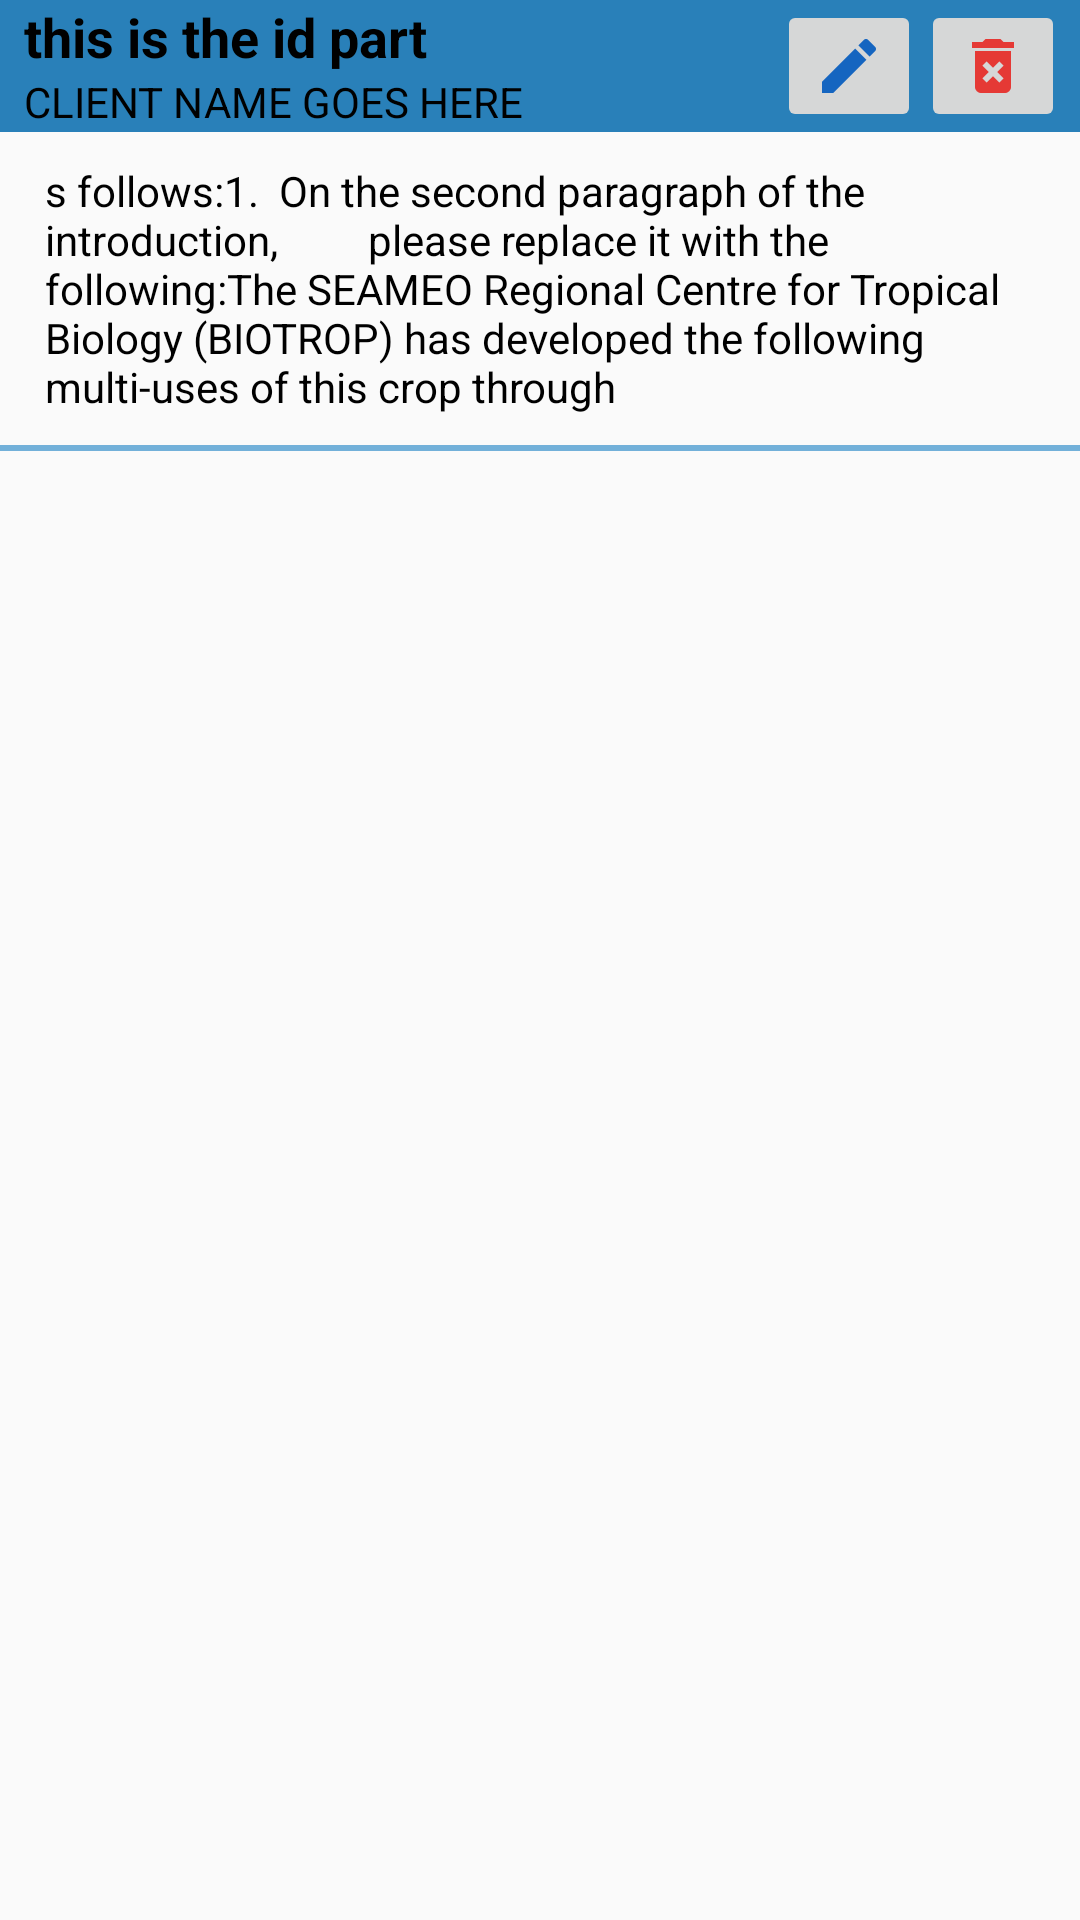

Screen size 1080 × 1920. Icon name, then its center in pixels as (x,y):
delete forever: (993,66)
edit: (849,66)
